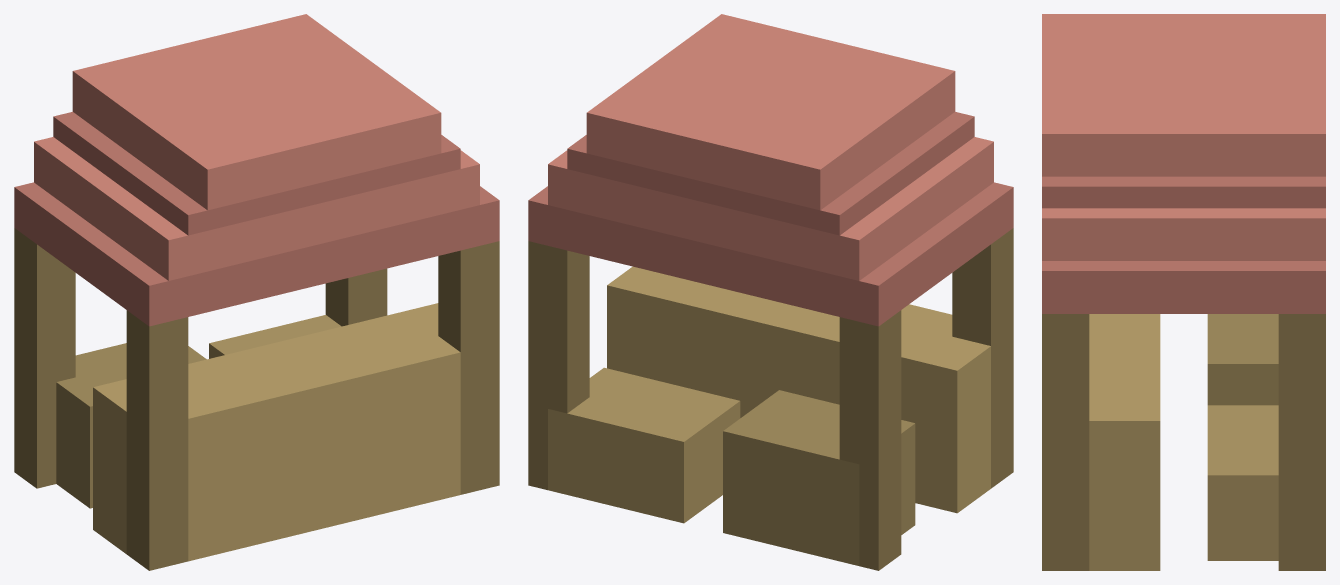
Rendered from puesto_mercado_01.glb.
3 renders of one model, left to right at view 1: azimuth 30°, elevation 25°; view 2: azimuth 150°, elevation 25°; view 3: azimuth 270°, elevation 25°, orthographic. The views are drawn at different scales.
Visible parts, largest first — view 1: puesto_mercado_01; view 2: puesto_mercado_01; view 3: puesto_mercado_01.
Boxes of the visible parts, x1=… form: puesto_mercado_01: x1=14, y1=14, x2=499, y2=570; puesto_mercado_01: x1=528, y1=14, x2=1013, y2=570; puesto_mercado_01: x1=1042, y1=14, x2=1325, y2=570.
Bounding box in the file's own units: 1.8 × 1.9 × 1.2.
